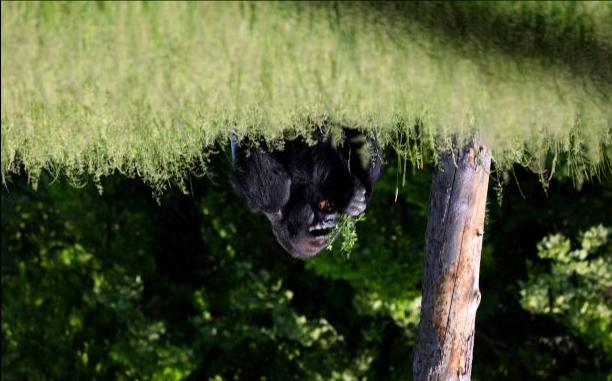goriile_montagne: (221, 131, 396, 270)
